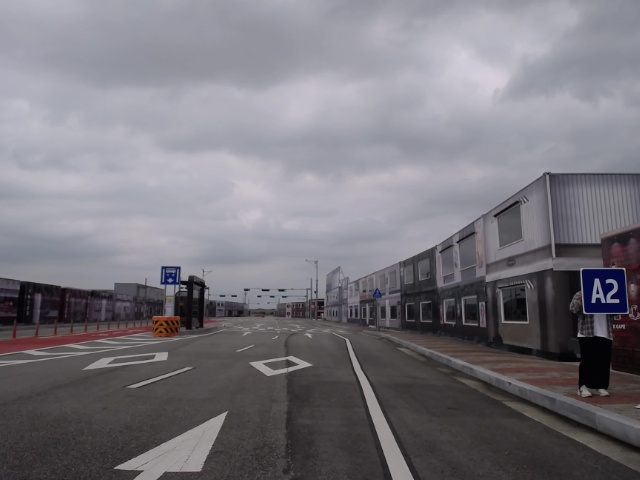delivery_a2: (581, 268, 628, 314)
